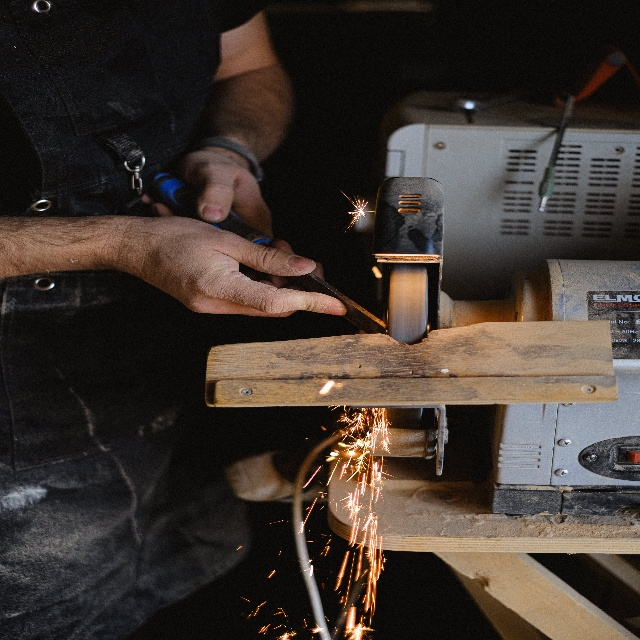Sin_guantes: (138, 214, 349, 315), (182, 141, 327, 282)
